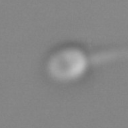normal: (89, 40, 128, 70)
